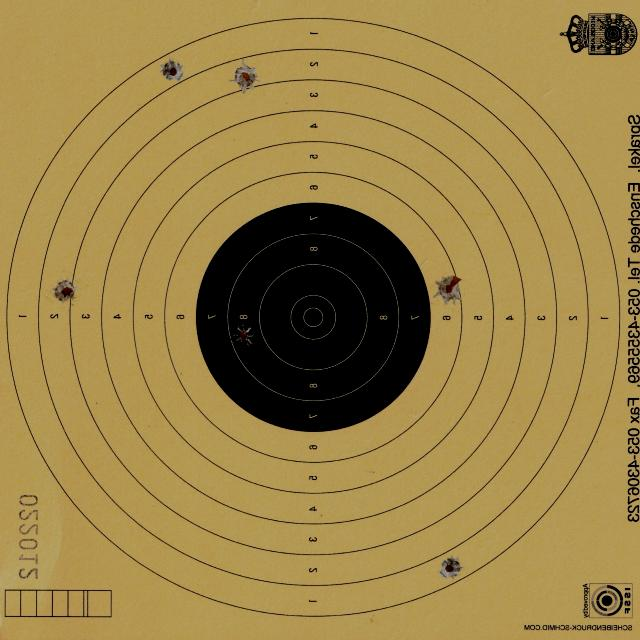1: (160, 58, 184, 82), (439, 557, 465, 577)
3: (50, 276, 77, 304), (229, 64, 257, 90)
6: (434, 276, 462, 304)
8: (233, 326, 255, 351)
Target: (4, 14, 624, 619)
black_contour: (197, 203, 431, 433)
